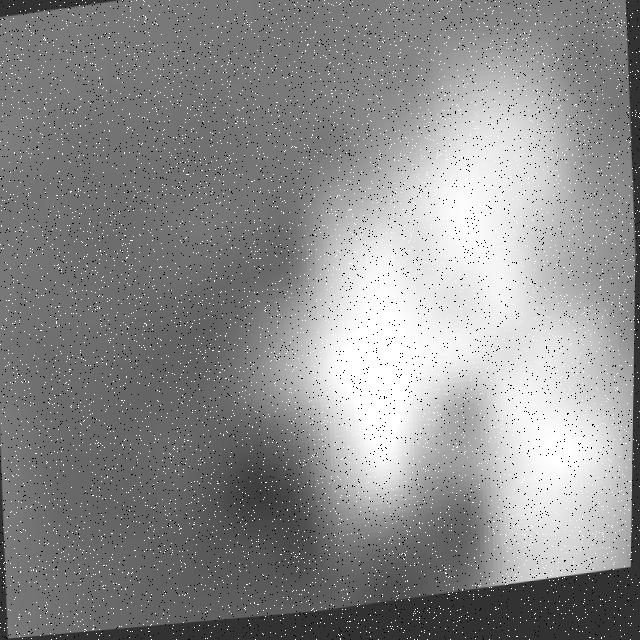person: (286, 49, 640, 621)
